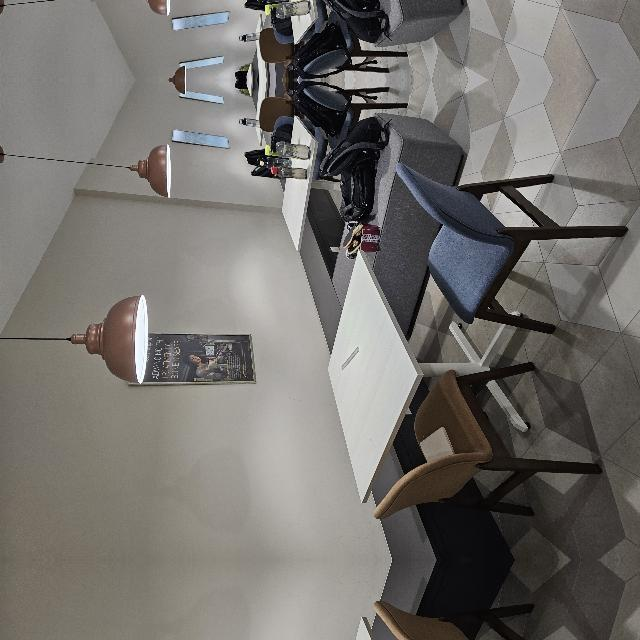obstacle: (54, 359, 479, 640), (54, 415, 479, 640)
